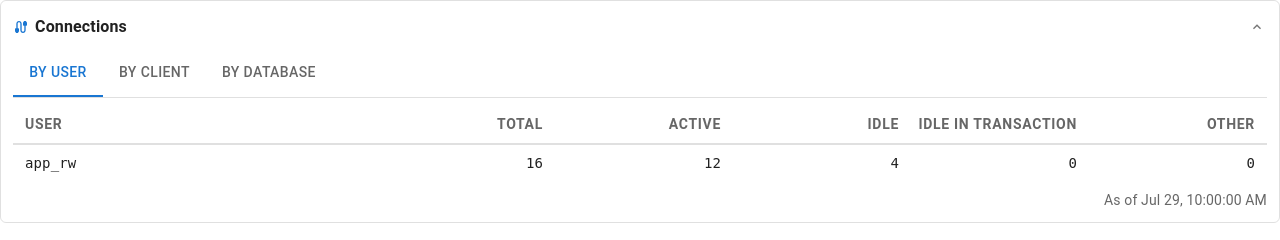
Test: ConnectionsSection › requests group_by=database and renders the database grouping
This screenshot has width=1280, height=240.
Check: the text "app_rw" is shown, box [25, 155, 76, 171]
Click the tab "By Database". click: click(269, 73)
box: [206, 49, 332, 97]
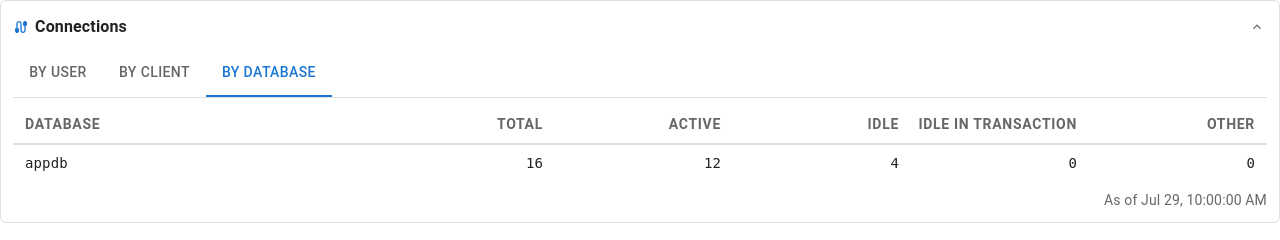
Check: the text "appdb" is shown, box [25, 155, 68, 171]
Check: the text "Database" is shown, box [25, 116, 100, 132]
